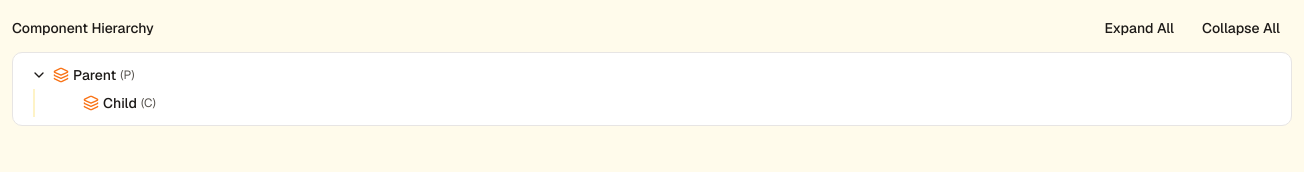
Scenario: ComponentTree › expand/collapse functionality › collapse all hides nested content
Expected: the text "Child" is shown, left=103, top=93, right=137, bottom=113
# Click collapse all
Click the button "Collapse All". click: (1241, 28)
box: left=1190, top=12, right=1292, bottom=44
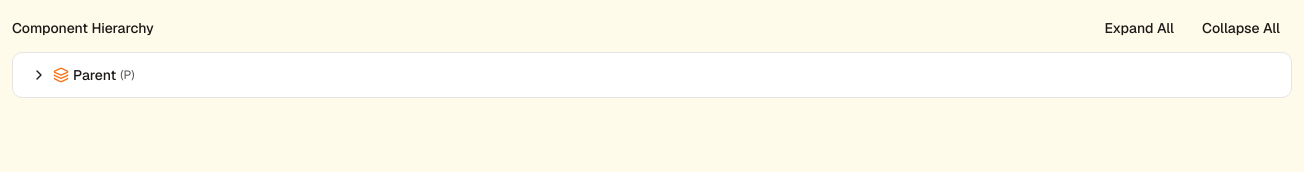
Result: the text "Child" is gone
